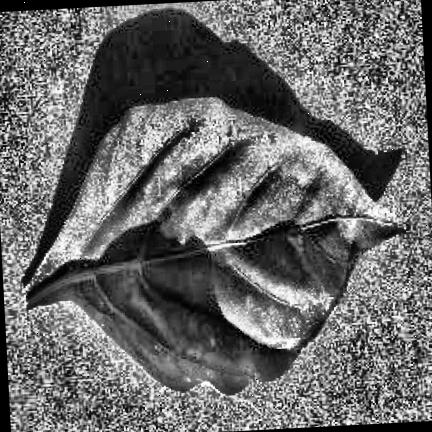leaf: (23, 96, 404, 393)
